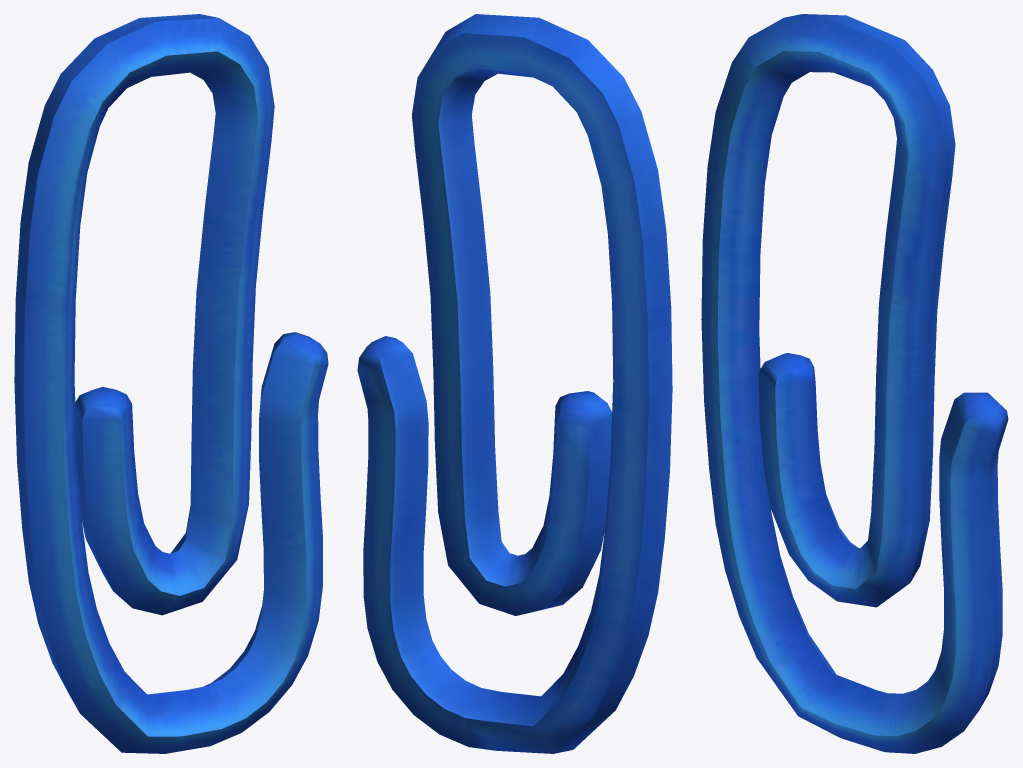
The model's file is 0-paperclip_blue.fbx.
3 renders of one model, left to right at view 1: azimuth 30°, elevation 25°; view 2: azimuth 150°, elevation 25°; view 3: azimuth 330°, elevation 25°, orthographic. The views are drawn at different scales.
Parts seen in each view (by area): view 1: 0-paperclip_blue; view 2: 0-paperclip_blue; view 3: 0-paperclip_blue.
Part boxes in pixels (x1,y1,x2,y2): 0-paperclip_blue: (14,14,328,753); 0-paperclip_blue: (357,14,672,753); 0-paperclip_blue: (701,14,1008,753).
Size of the model in its own units: 41.48 by 95.87 by 7.63.
